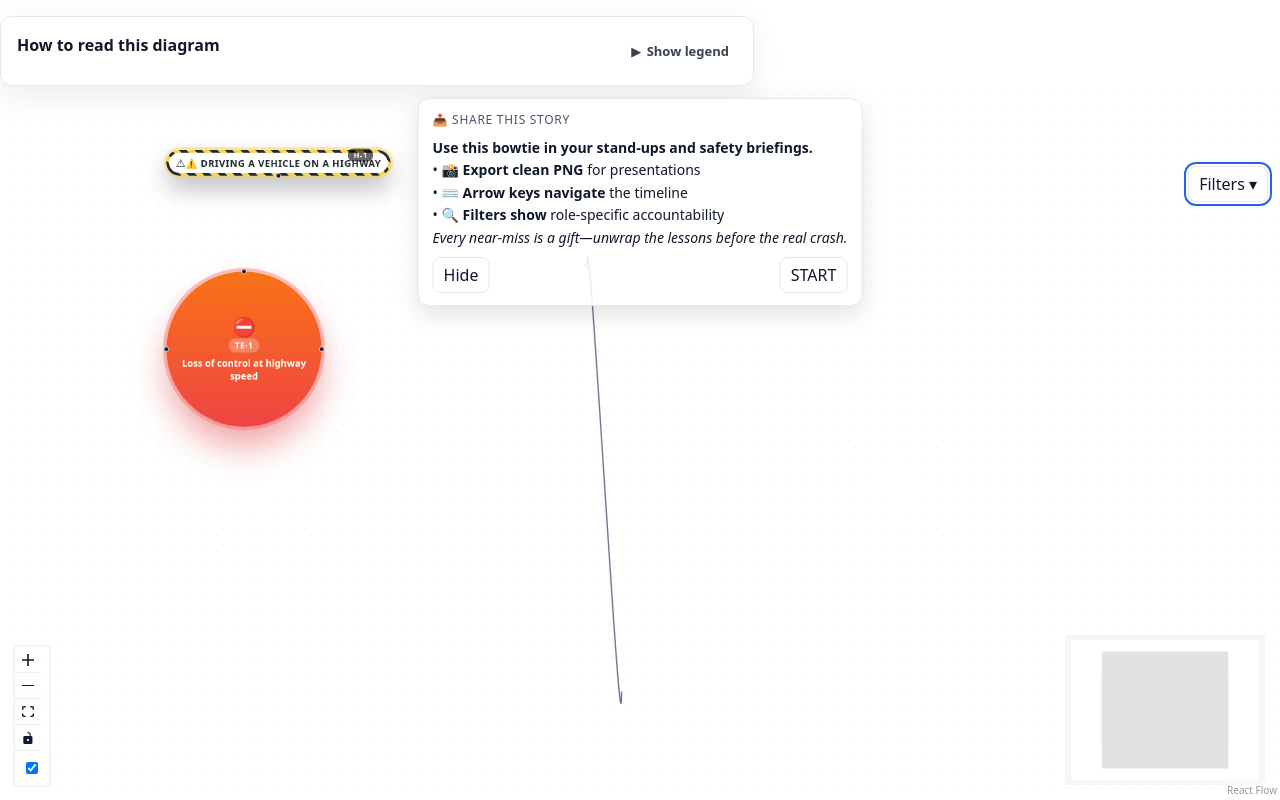
Narrative bullet points rendering › renders bullet points (•) in Story Overlay for step 1 (Normal State)
Note: Click START to go to step 1
Click the button "START" at (814, 275), box top-left (780, 257), bottom-right (847, 293)
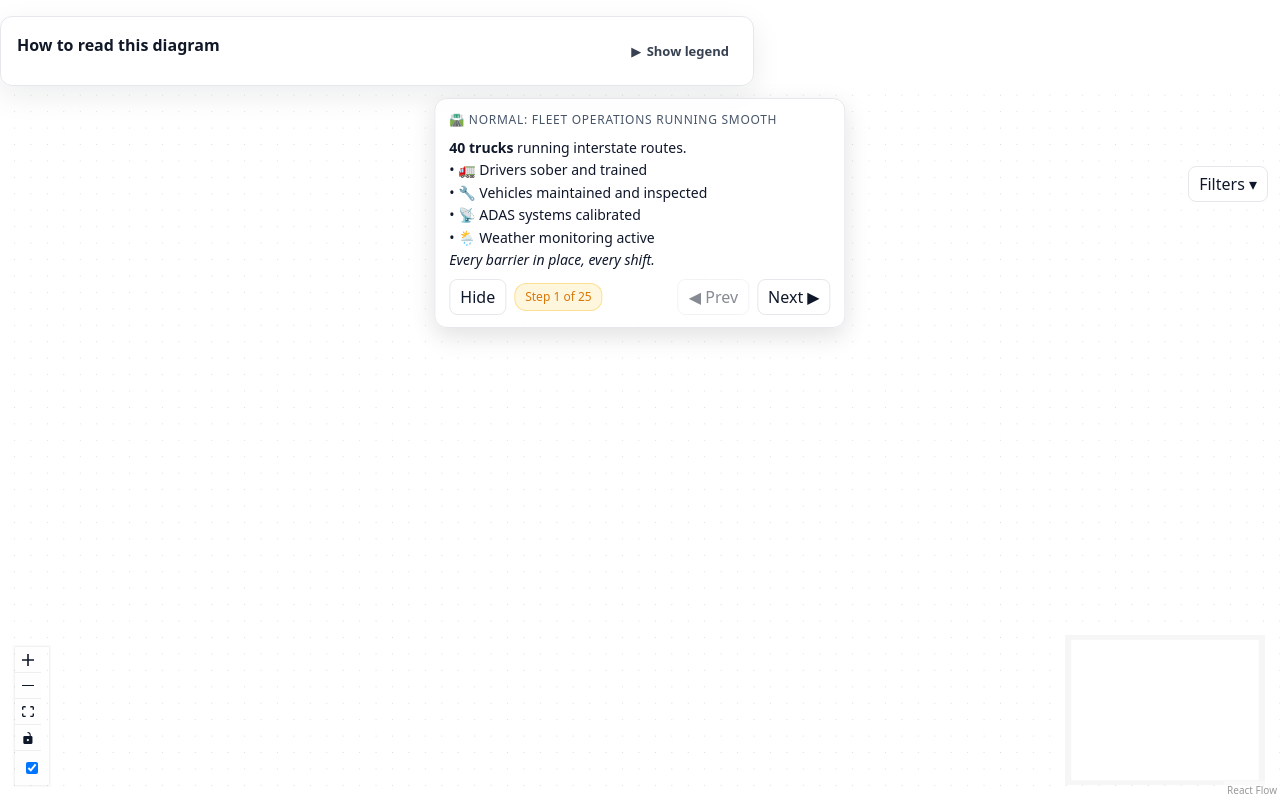
Expected: the dialog named "Demo narrative" is shown, top-left (434, 98), bottom-right (846, 328)
Now the text "🛣️ NORMAL: Fleet Operations Running Smooth" is shown, box top-left (449, 111), bottom-right (831, 129)
Now the element that starts with "40 trucks" shows "Drivers sober and trained", box top-left (449, 160), bottom-right (647, 179)
